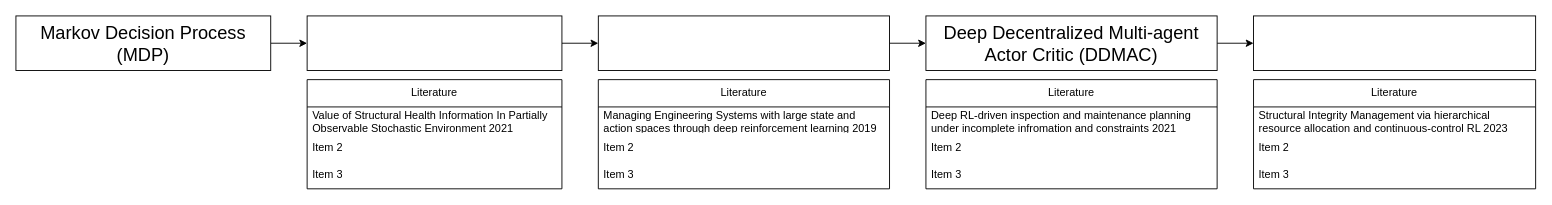
Some shapes in this 1552 by 205 pixel diagram are drawn without their labels. The shapes that lost their labels are listed below. From the top down, each one's centre as x and y in pixels, then its label:
At [434,43]: "Partially Observable Markov Decision Process (POMDP)".
At [743,43]: "Deep Centralized Multi-agent Actor Critic (DCMAC)".
At [1394,43]: "Hierarchical Resource allocation and continuous-control RL".
